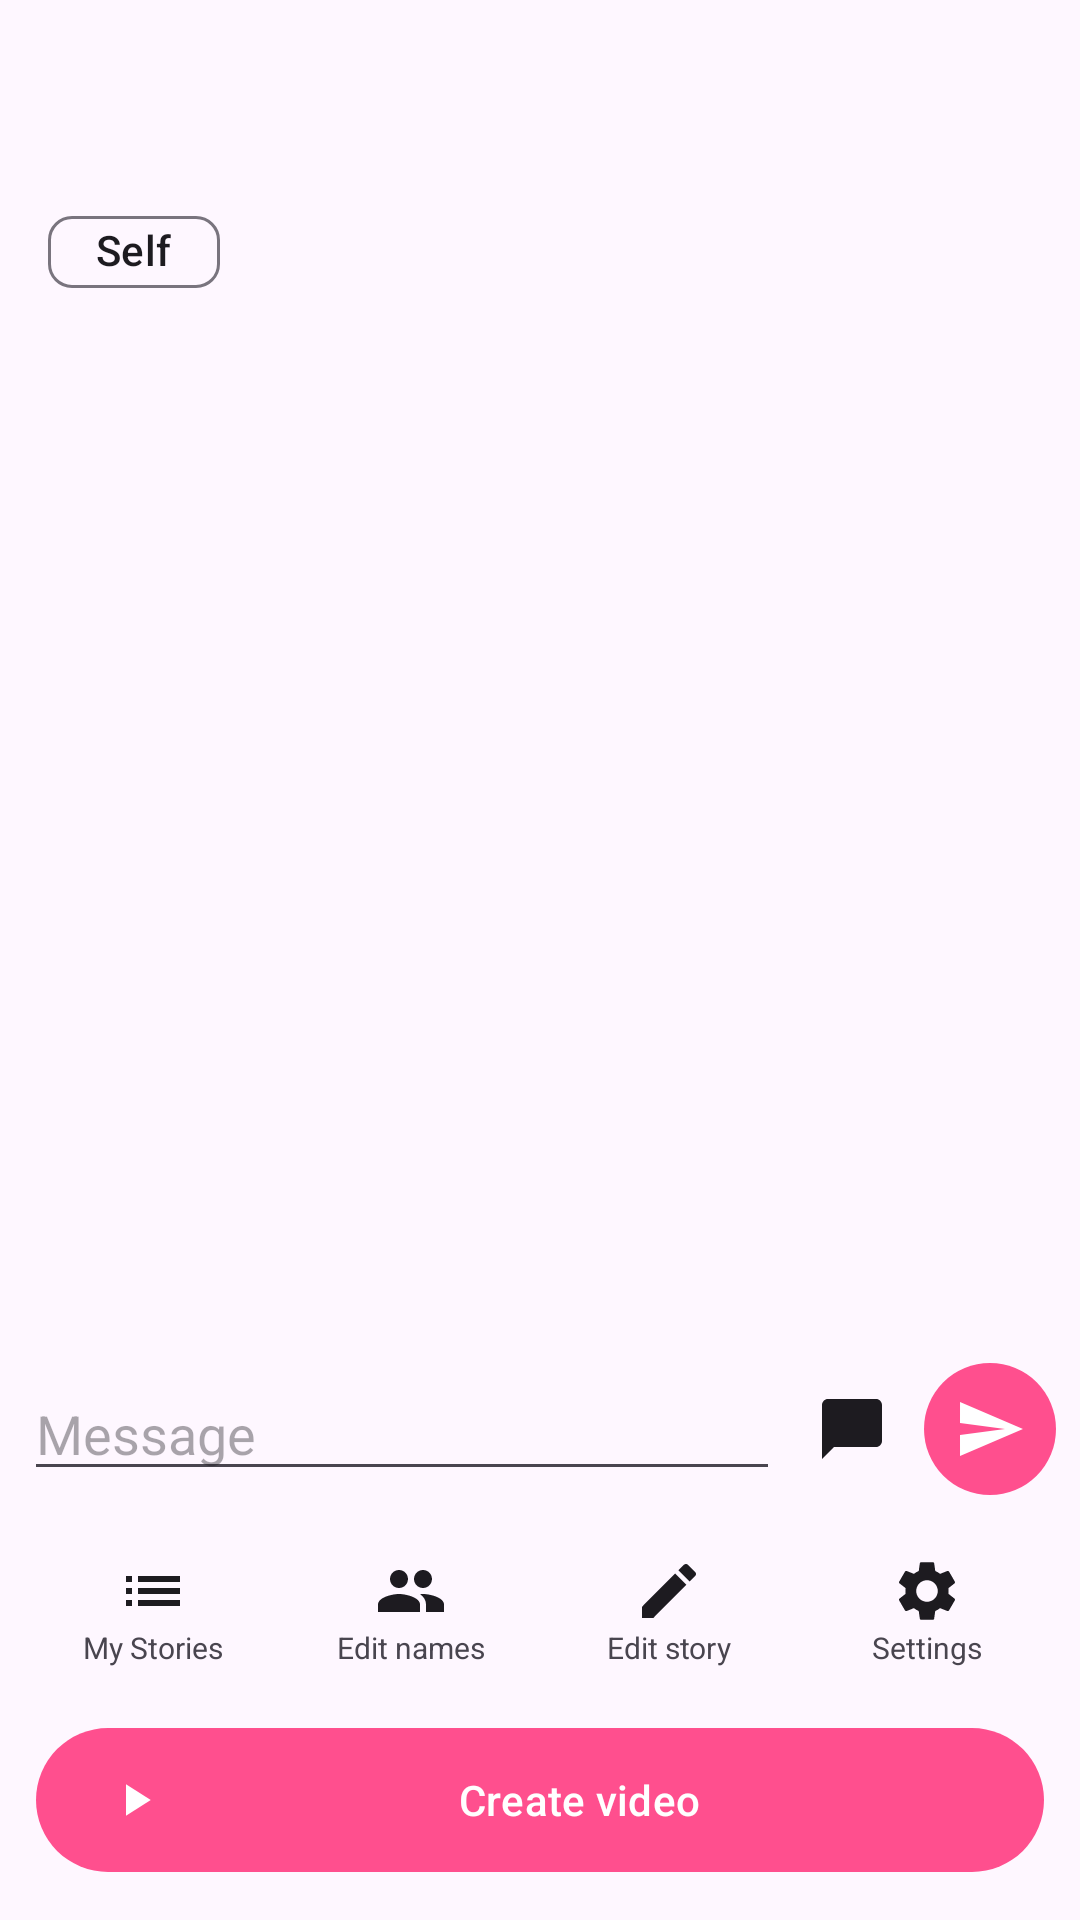

Named icons in this screenshot (1080×1920) and their centers, (x,y):
Add comment: (852,1429)
list: (153,1591)
people: (411,1591)
Send: (990,1429)
